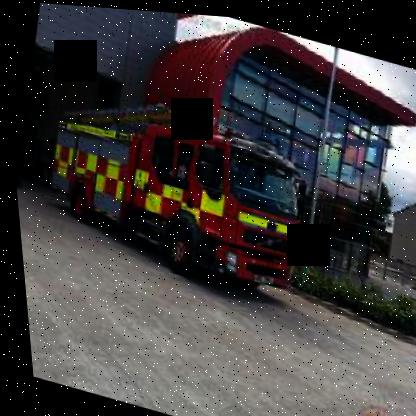emergency: (27, 64, 343, 323)
